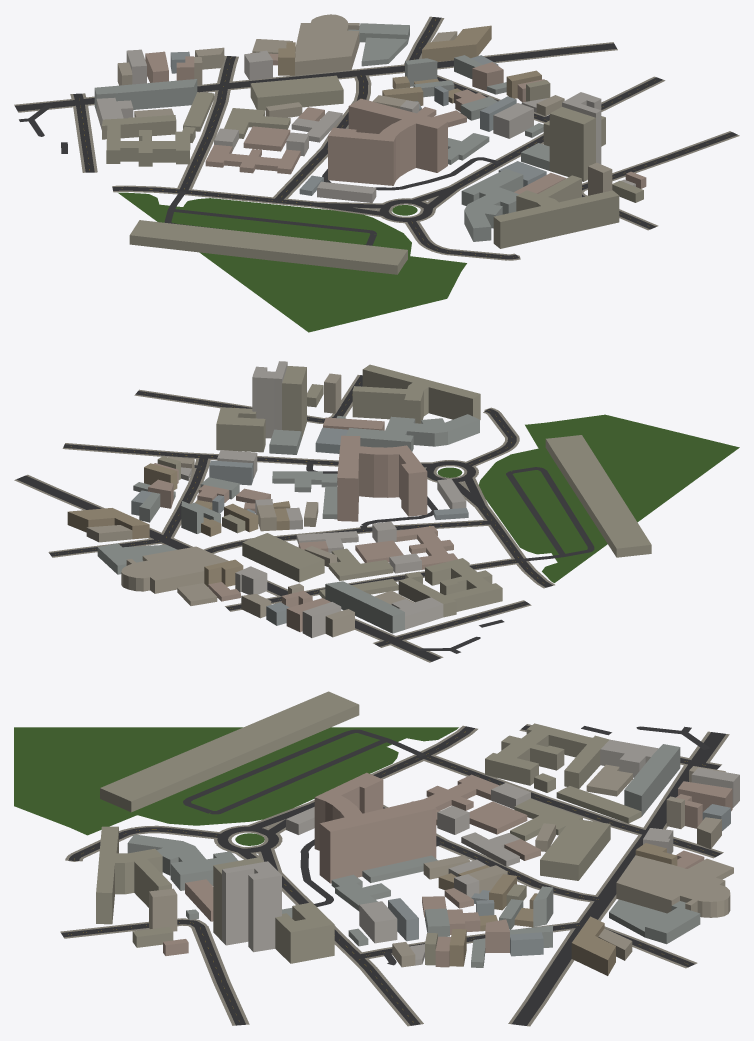
3 renders of one model, top to bottom at view 1: azimuth 30°, elevation 25°; view 2: azimuth 150°, elevation 25°; view 3: azimuth 270°, elevation 25°, orthographic. The views are drawn at different scales.
Visible parts, largest first — view 1: tile_2_1; view 2: tile_2_1; view 3: tile_2_1.
Part boxes in pixels (x1,y1,x2,y2): tile_2_1: [14, 14, 739, 332]; tile_2_1: [14, 361, 739, 662]; tile_2_1: [14, 691, 739, 1026].
Bounding box in the file's own units: 435 × 45.2 × 412.
